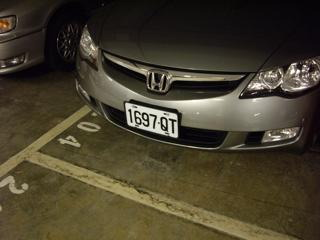plate: (122, 99, 179, 141)
